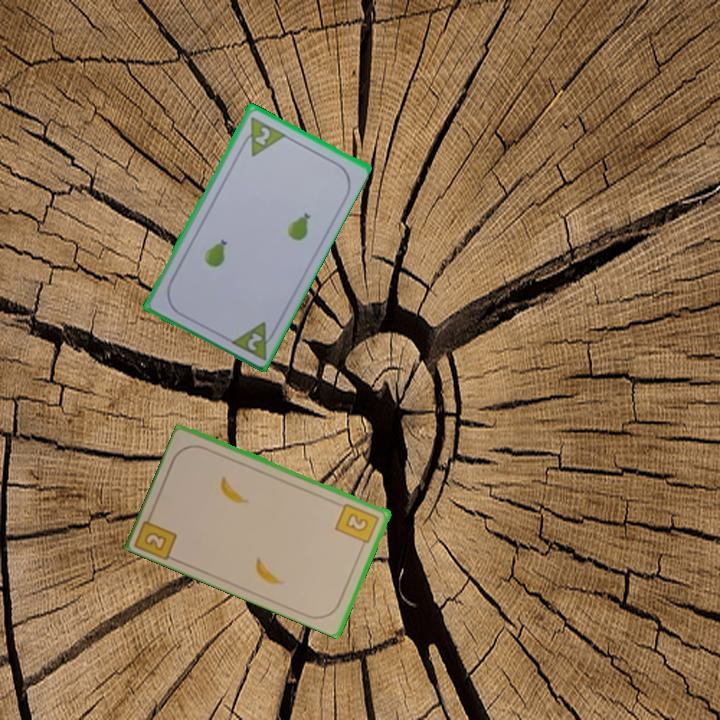2b: (133, 507, 181, 562), (332, 499, 382, 551)
2p: (226, 317, 280, 362), (250, 123, 273, 148)
